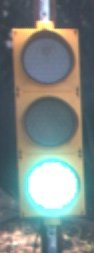Green: (9, 24, 89, 224)
